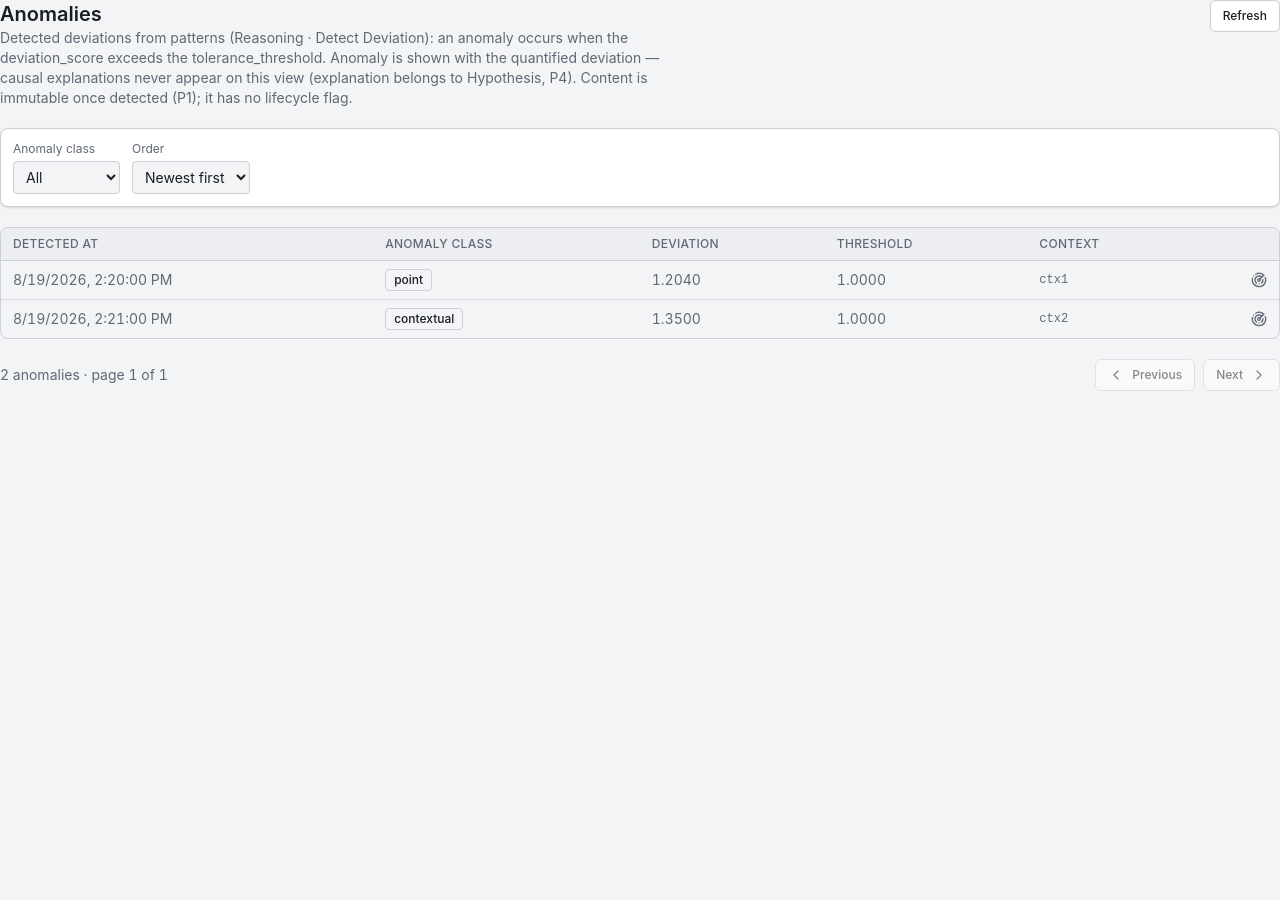
Test: AnomaliesPage › opens the detail drawer with the source context
Click the text "point" at (409, 280), box [385,269,432,291]
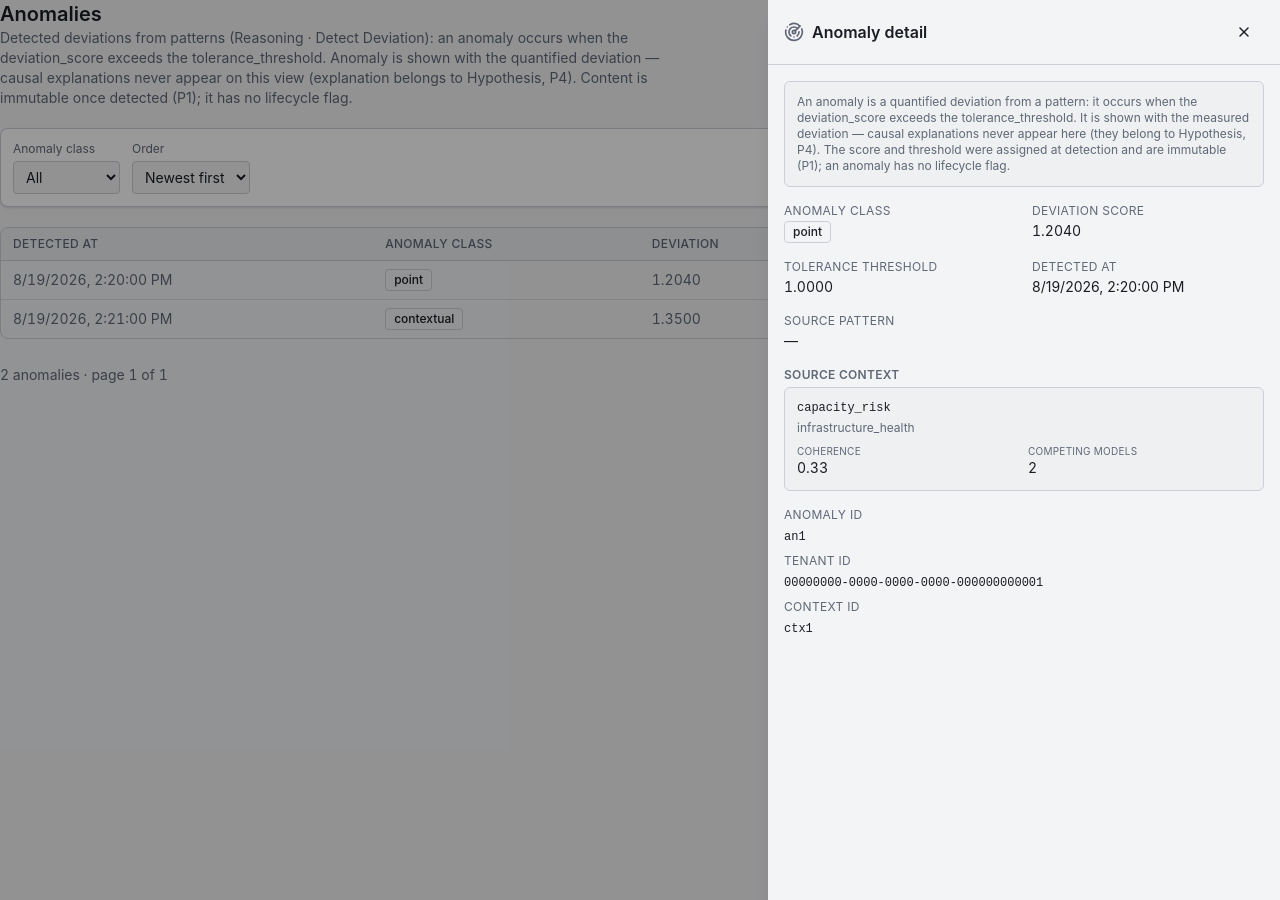
Expected: the heading "Source context" is shown, [784,367,900,382]
Expected: the text "capacity_risk" is shown, [797,400,891,416]
Expected: the text "infrastructure_health" is shown, [797,420,915,435]
